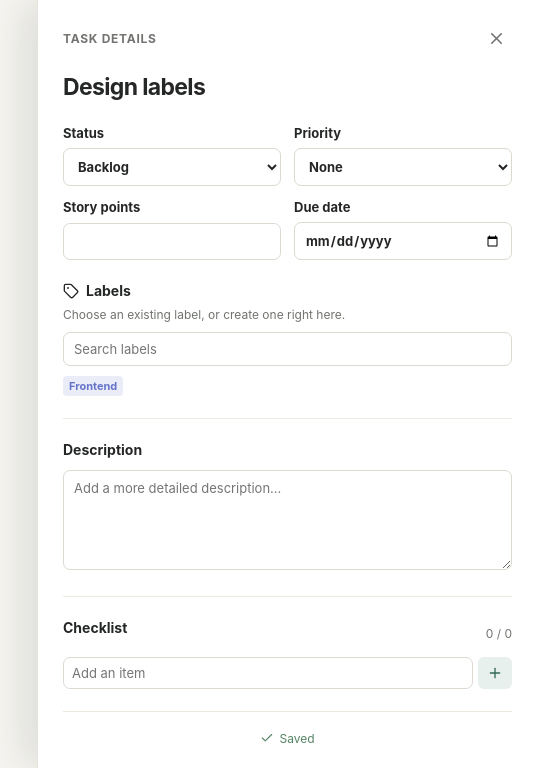
Test case: TaskDrawer labels › shows an actionable error when creating a label fails
Type "Design" into the field labelled "Search labels". click: (288, 349)
box: [63,332,512,366]
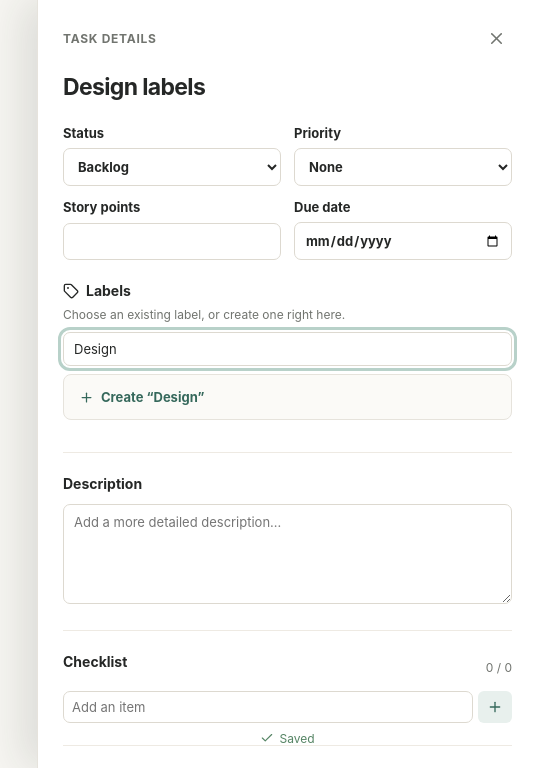
Click the button "Create “Design”". click: (153, 397)
box: [71,382,504,412]
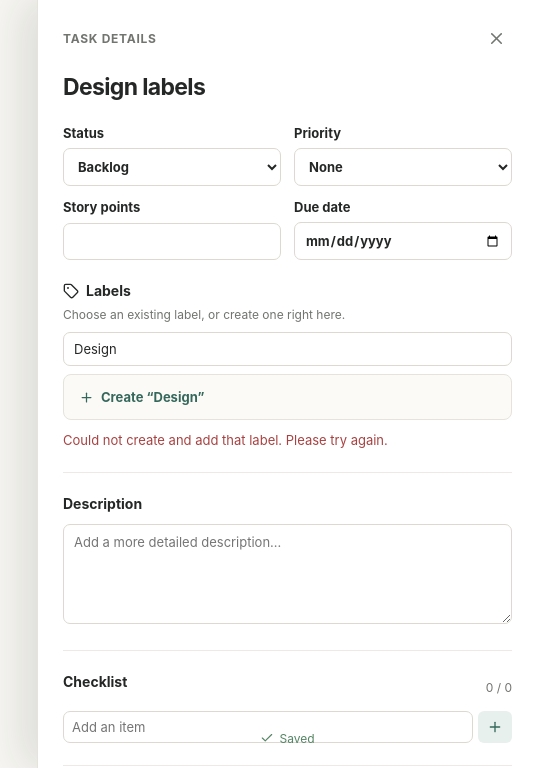
Expected: the message shows "Could not create and add that label", [63,432,388,448]
